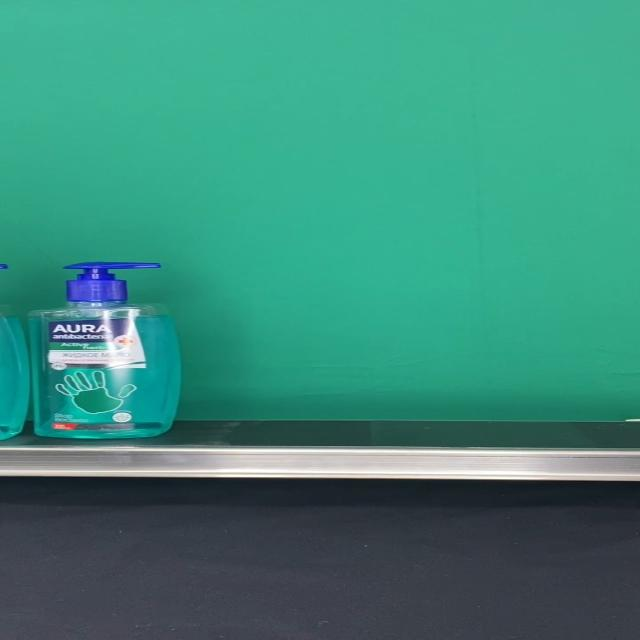Bottle: (27, 261, 182, 438)
Cap: (63, 261, 161, 301)
